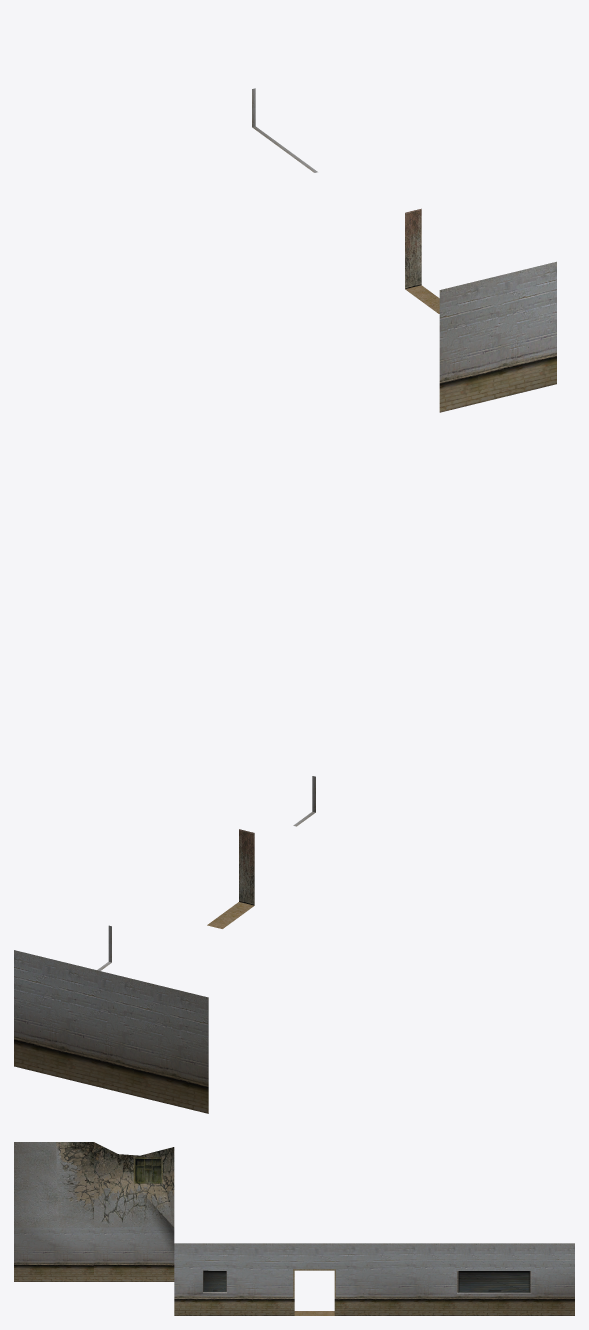
The model's file is M10_Z2_Ruins01.glb.
The picture shows the model from 3 angles, top to bottom: view 1: azimuth 30°, elevation 25°; view 2: azimuth 150°, elevation 25°; view 3: azimuth 270°, elevation 25°; orthographic projection. The views are drawn at different scales.
Visible parts, largest first — view 1: M10_Z2_RUINS01; view 2: M10_Z2_RUINS01; view 3: M10_Z2_RUINS01.
Boxes of the visible parts, box(x1,y1,x2,y2) form: M10_Z2_RUINS01: box(252, 88, 556, 412); M10_Z2_RUINS01: box(14, 776, 315, 1113); M10_Z2_RUINS01: box(14, 1142, 574, 1315).
Bounding box in the file's own units: 7 × 7.71 × 28.
9 materials, 9 textured.
